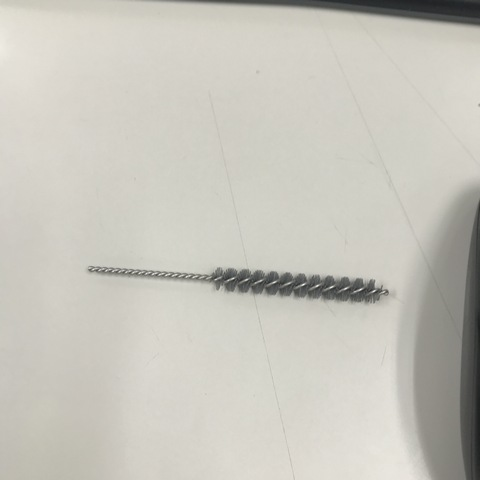Twist Brush-A: (86, 254, 392, 309)
